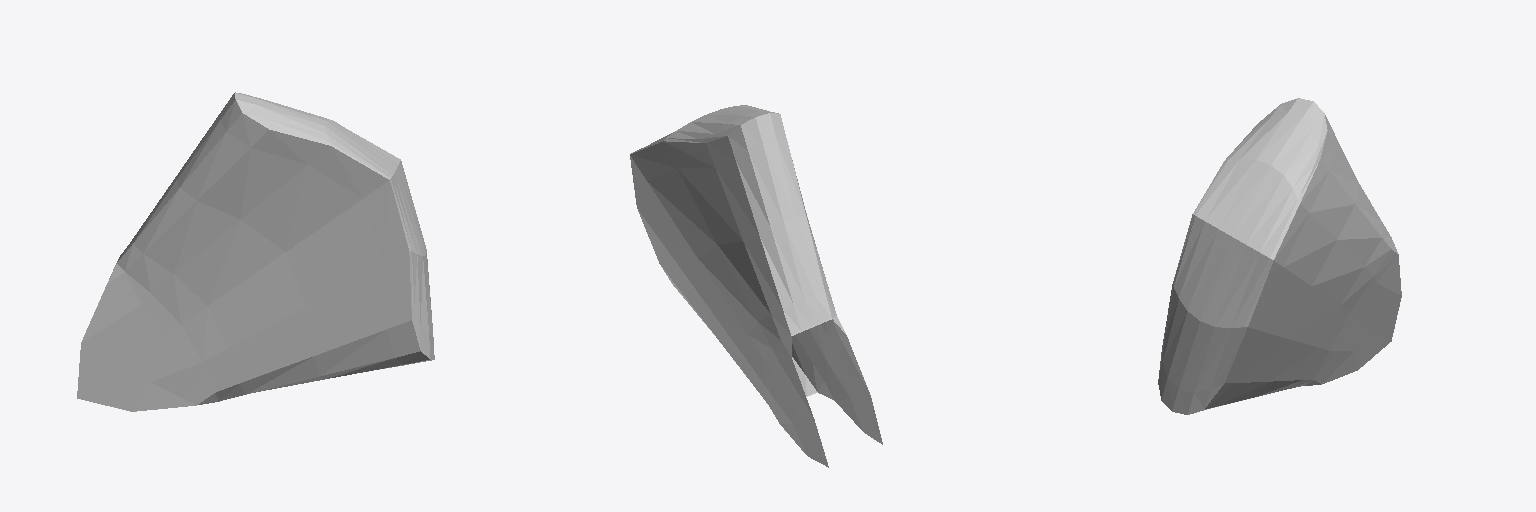
Rendered from SubTool-6-6232304.OBJ.
The picture shows the model from 3 angles: view 1: azimuth 30°, elevation 25°; view 2: azimuth 150°, elevation 25°; view 3: azimuth 270°, elevation 25°; orthographic projection.
Parts seen in each view (by area): view 1: Group27; view 2: Group27; view 3: Group27.
Boxes of the visible parts, box(x1,y1,x2,y2) form: Group27: box(77, 92, 434, 411); Group27: box(630, 105, 882, 467); Group27: box(1158, 98, 1401, 414).
Size of the model in its own units: 1.91 by 1.89 by 1.37.